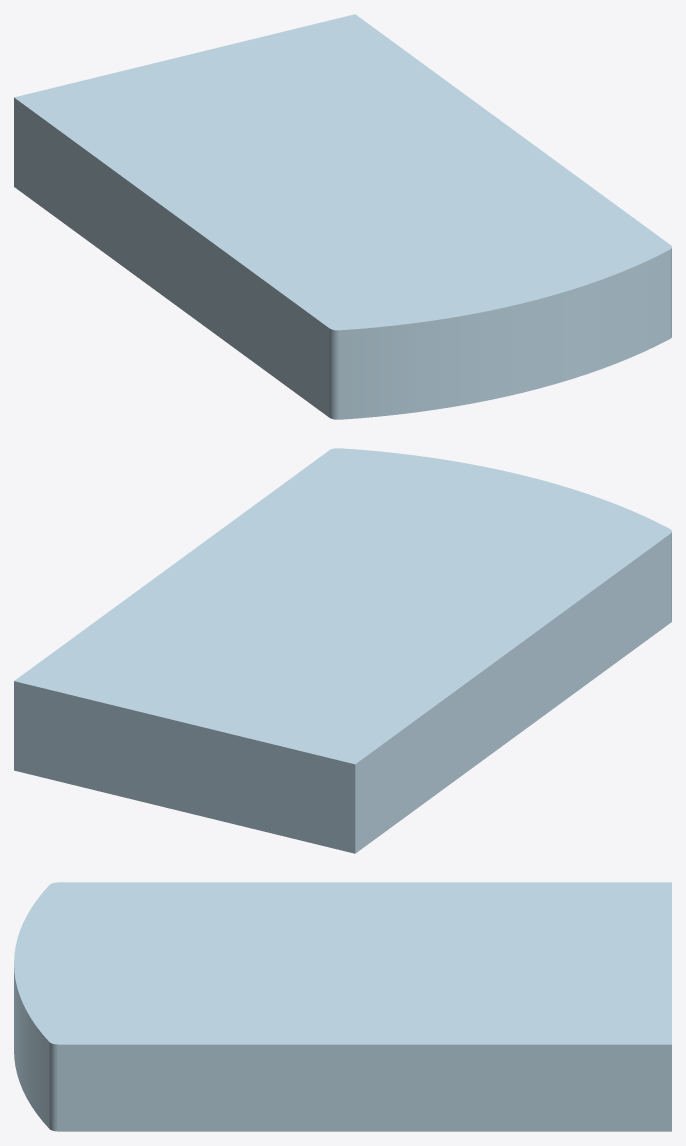
File: unknown-soldiers.glb
3 renders of one model, top to bottom at view 1: azimuth 30°, elevation 25°; view 2: azimuth 150°, elevation 25°; view 3: azimuth 270°, elevation 25°, orthographic. The views are drawn at different scales.
Size of the model in its own units: 0.2536 by 0.0635 by 0.4352.
